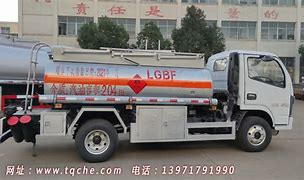oil truck: (5, 43, 298, 162)
